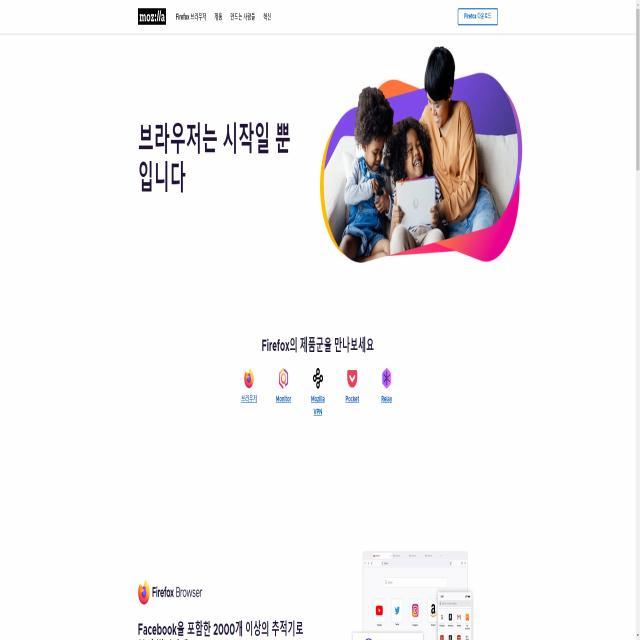tab-bar: (134, 4, 274, 26)
